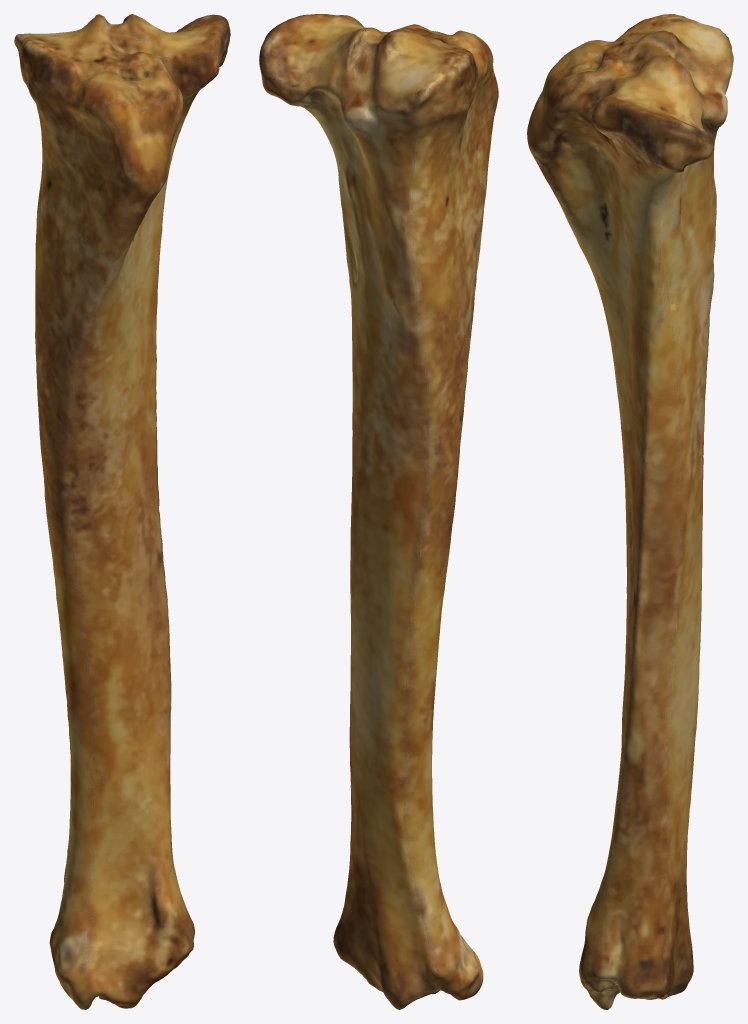
The model's file is tibia.glb.
3 renders of one model, left to right at view 1: azimuth 30°, elevation 25°; view 2: azimuth 150°, elevation 25°; view 3: azimuth 270°, elevation 25°, orthographic.
Parts seen in each view (by area): view 1: Alpaca Left Tibia; view 2: Alpaca Left Tibia; view 3: Alpaca Left Tibia.
Part boxes in pixels (x1,y1,x2,y2): Alpaca Left Tibia: (14, 14, 230, 1009); Alpaca Left Tibia: (259, 14, 498, 1009); Alpaca Left Tibia: (527, 14, 733, 1009).
Bounding box in the file's own units: 0.0548 × 0.2565 × 0.0492.
Materials: 1 (1 with a texture image).
